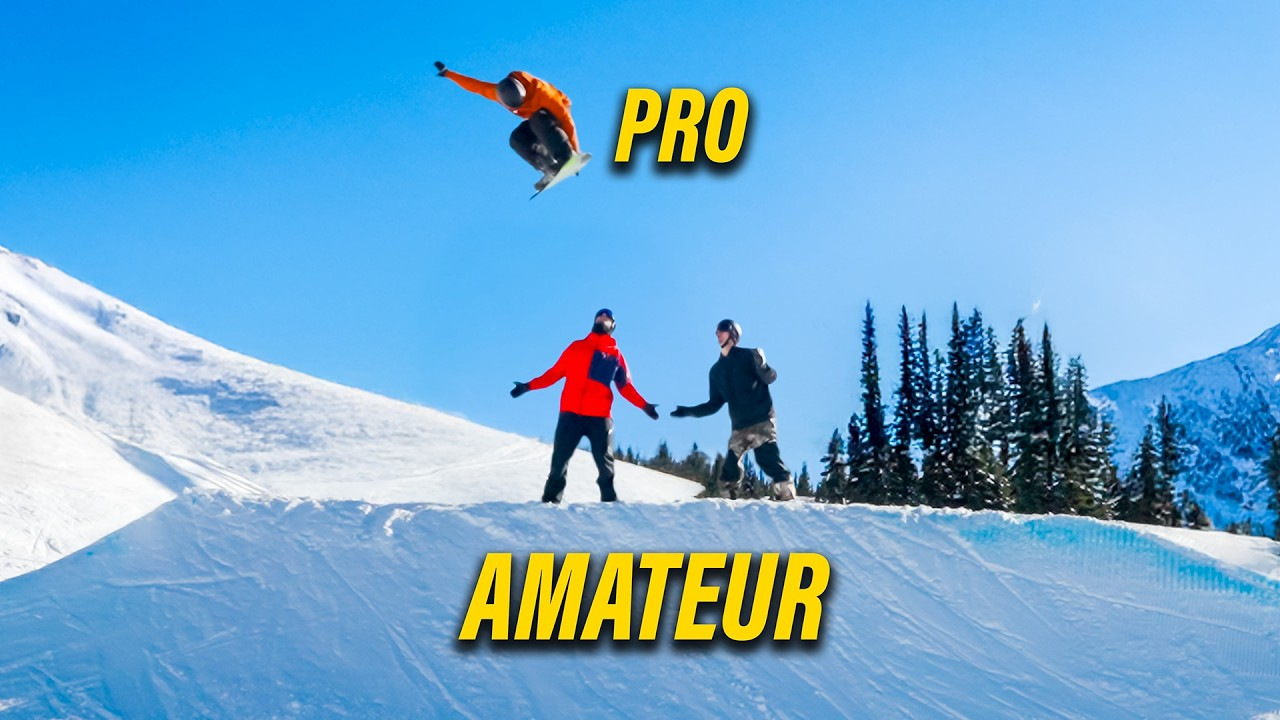snowboarder: (424, 41, 594, 206), (677, 308, 802, 508)
